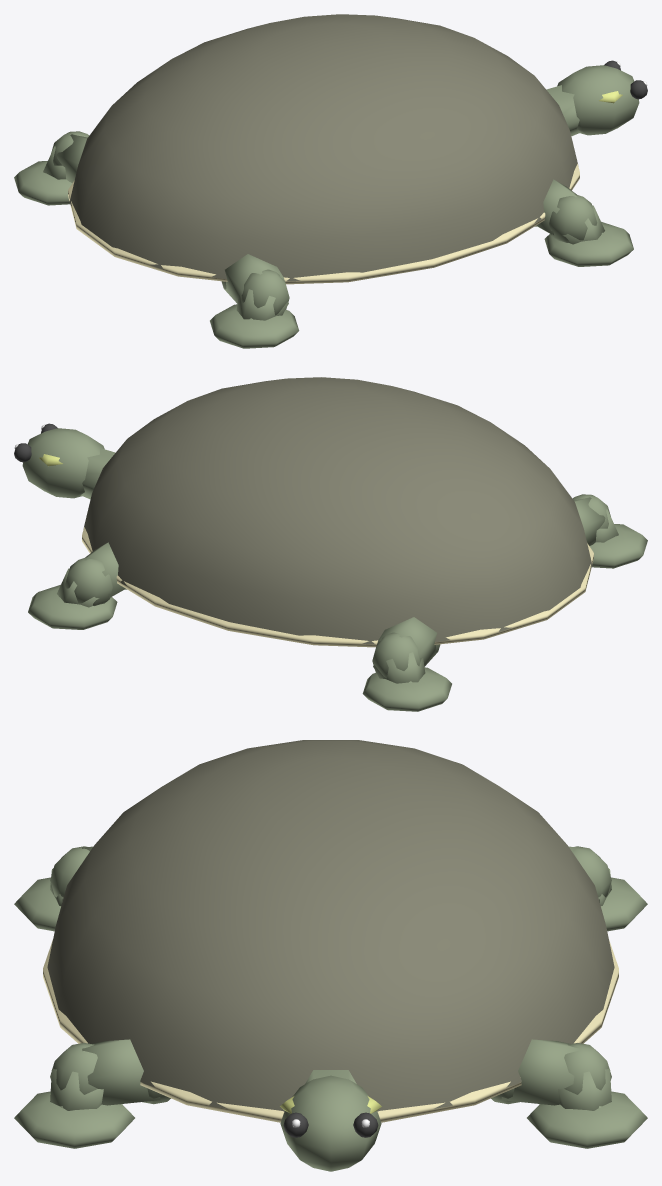
File: chinese-stripe-necked-turtle.glb
3 renders of one model, top to bottom at view 1: azimuth 30°, elevation 25°; view 2: azimuth 150°, elevation 25°; view 3: azimuth 270°, elevation 25°, orthographic. The views are drawn at different scales.
Visible parts, largest first — view 1: e, e.019, e.009, e.001, e.024; view 2: e, e.024, e.014, e.001, e.019; view 3: e, e.009, e.014, e.001, e.019, e.024.
Part boxes in pixels (<box>): e: <box>68,14,580,284</box>; e.019: <box>210,254,299,348</box>; e.009: <box>535,179,633,266</box>; e.001: <box>557,60,647,135</box>; e.024: <box>14,131,89,205</box>; e: <box>81,377,593,647</box>; e.024: <box>362,617,451,711</box>; e.014: <box>28,542,126,629</box>; e.001: <box>14,423,104,498</box>; e.019: <box>572,494,647,568</box>; e: <box>43,740,618,1122</box>; e.009: <box>14,1039,170,1148</box>; e.014: <box>491,1039,647,1148</box>; e.001: <box>280,1075,381,1171</box>; e.019: <box>14,846,92,931</box>; e.024: <box>569,846,647,931</box>.
Size of the model in its own units: 0.5831 by 0.1929 by 0.4509.
